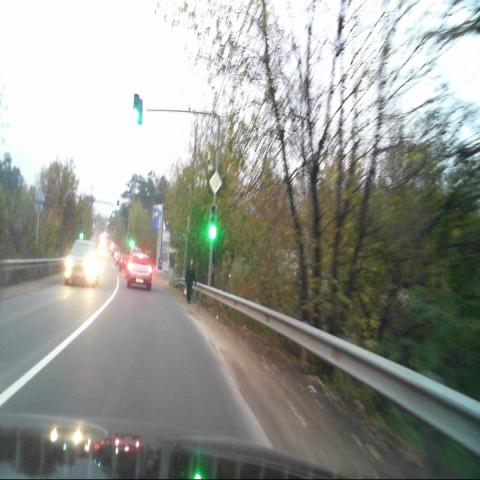2_1: (209, 170, 222, 194)
